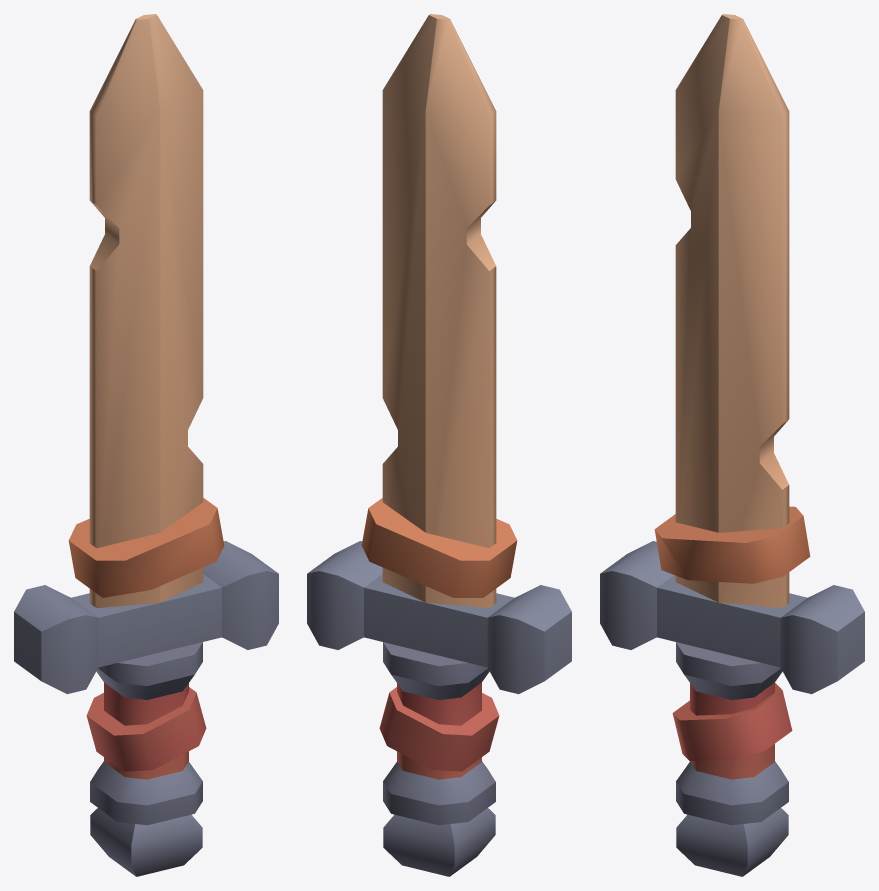
File: sword-c.fbx
The picture shows the model from 3 angles, left to right: view 1: azimuth 30°, elevation 25°; view 2: azimuth 150°, elevation 25°; view 3: azimuth 330°, elevation 25°; orthographic projection.
Parts seen in each view (by area): view 1: sword-c; view 2: sword-c; view 3: sword-c.
Boxes of the visible parts, box(x1,y1,x2,y2) form: sword-c: box(14, 14, 278, 876); sword-c: box(307, 14, 571, 876); sword-c: box(600, 14, 864, 876).
Bounding box in the file's own units: 125 × 425 × 45.
1 material, 1 textured.
